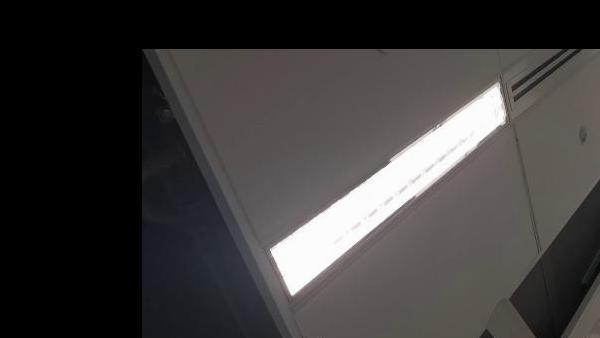light_on: (260, 72, 516, 309)
